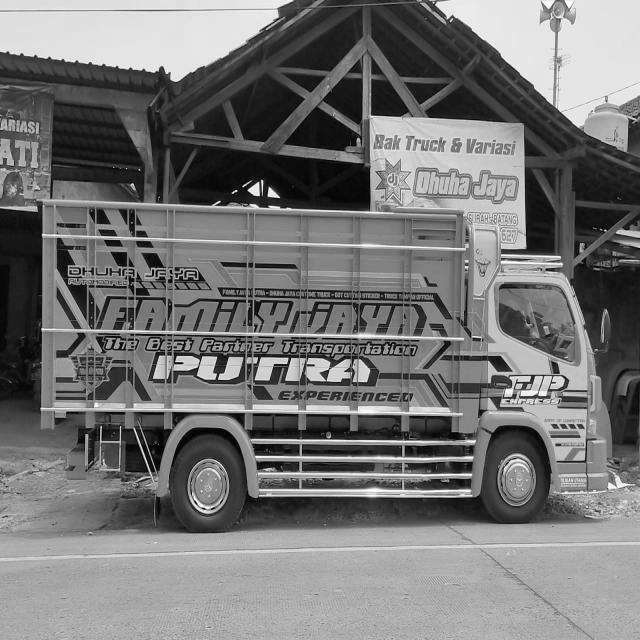truck: (459, 230, 632, 522)
